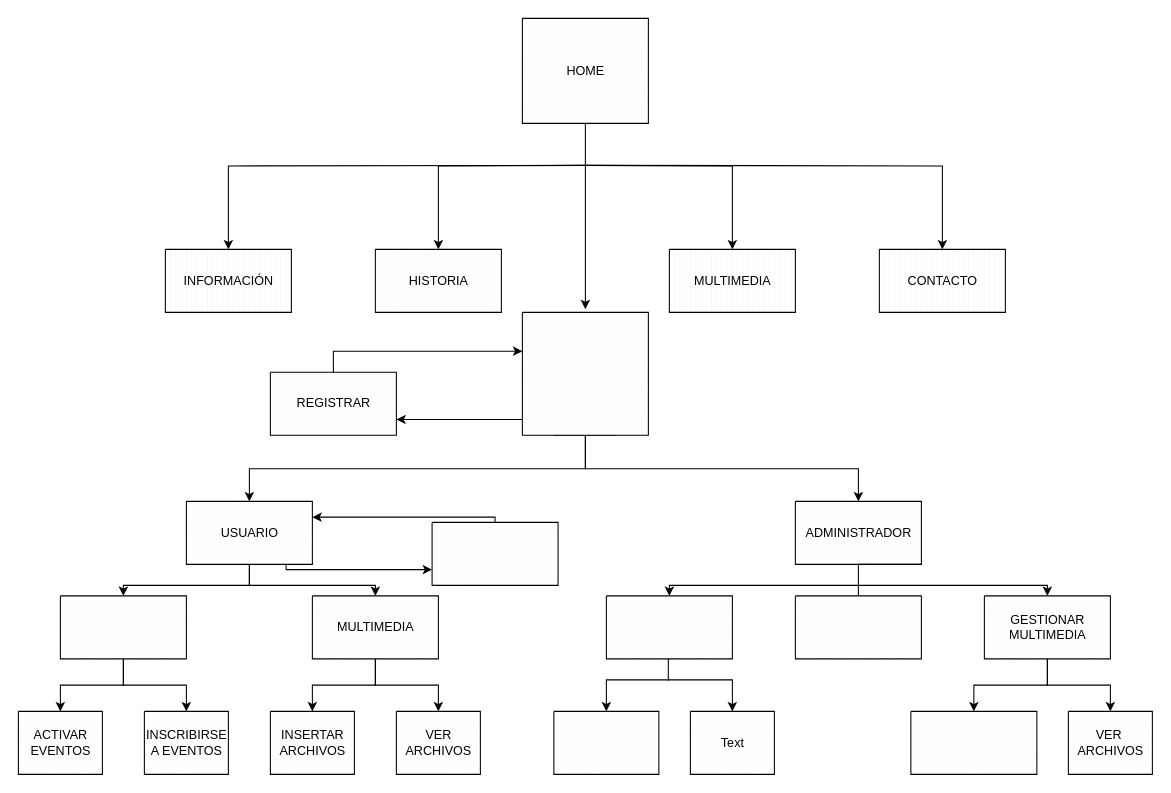
Image size: 1171x793. Some labels were removed from this diagram. Here are the shapes that lost their labels. From the top down, the centre of each, then its label:
[584,373]: LOGIN/REGISTRO
[494,553]: NOTIFICACIONES
[122,627]: EVENTOS
[668,627]: GESTIONAR EVENTOS
[857,627]: GESTIONAR USUARIOS
[606,742]: CREAR/BORRAR EVENTOS
[973,742]: INSERTAR/BORRAR ARCHIVOS
